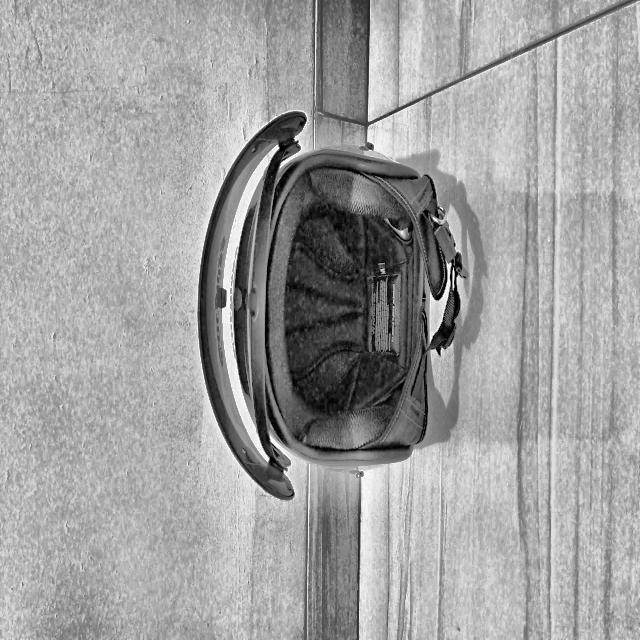Helmet: (191, 79, 483, 508)
